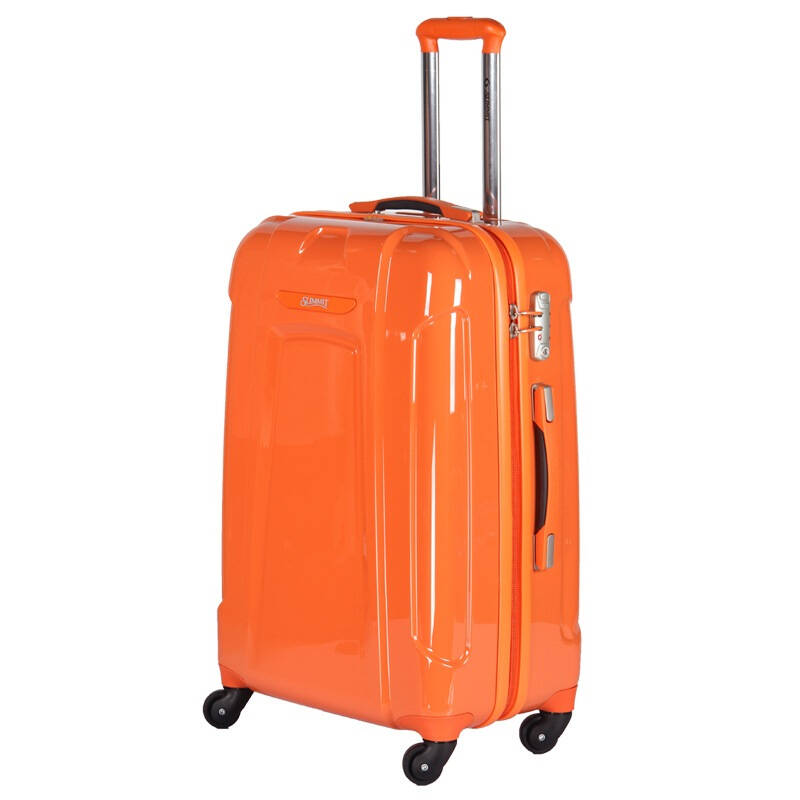luggage: (200, 15, 581, 787)
